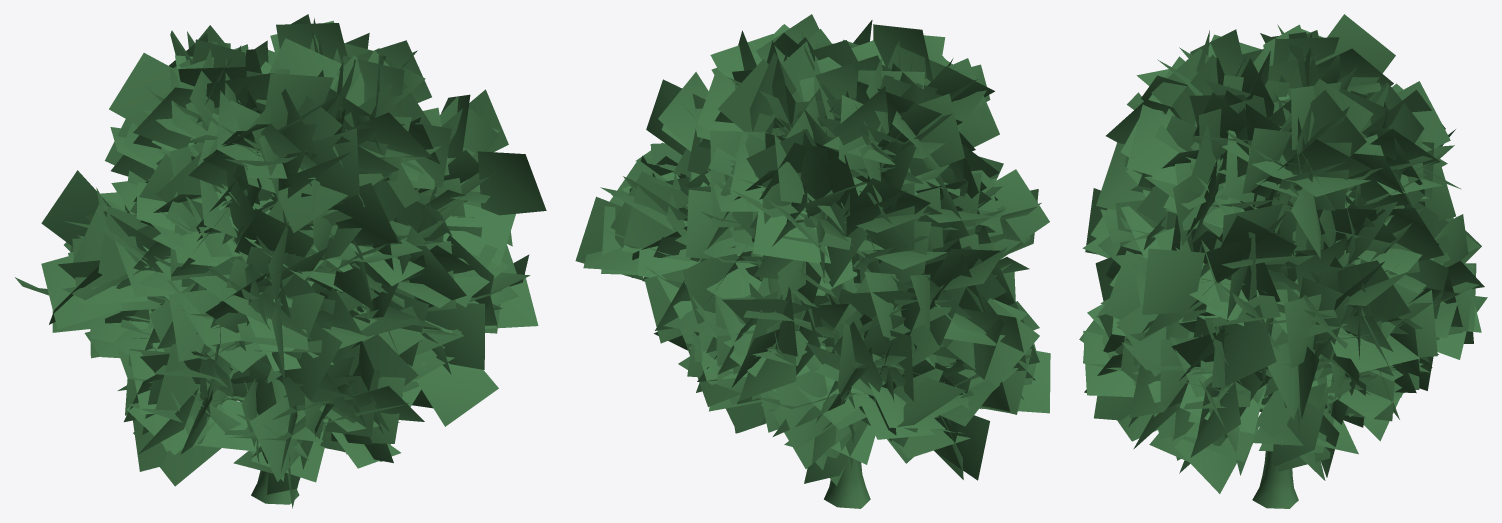
File: Tree_15.fbx
3 renders of one model, left to right at view 1: azimuth 30°, elevation 25°; view 2: azimuth 150°, elevation 25°; view 3: azimuth 270°, elevation 25°, orthographic.
Visible parts, largest first — view 1: Tree_1_1; view 2: Tree_1_1; view 3: Tree_1_1.
Boxes of the visible parts, x1,y1,x2,y2 form: Tree_1_1: [15, 14, 546, 508]; Tree_1_1: [575, 14, 1050, 508]; Tree_1_1: [1079, 14, 1487, 508].
Size of the model in its own units: 323 by 325 by 266.
